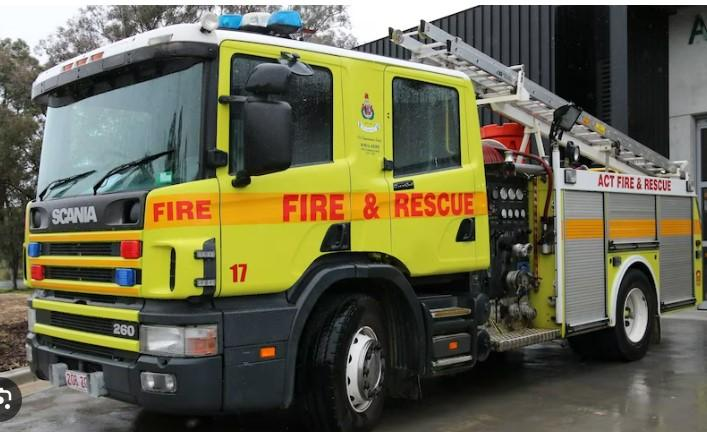firetruck_off: (26, 14, 700, 432)
